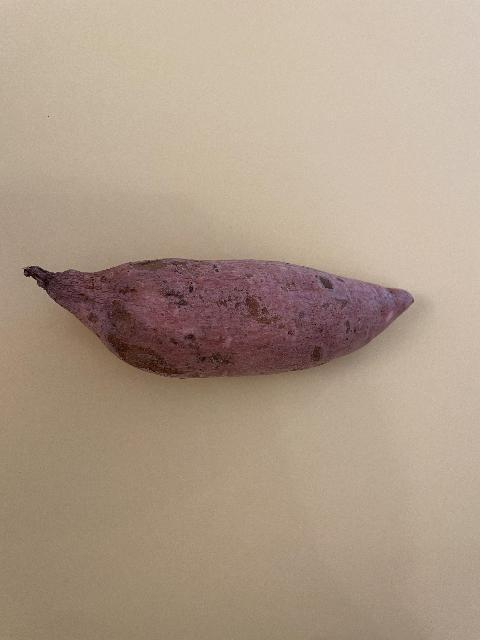sweetpotato: (19, 255, 417, 383)
